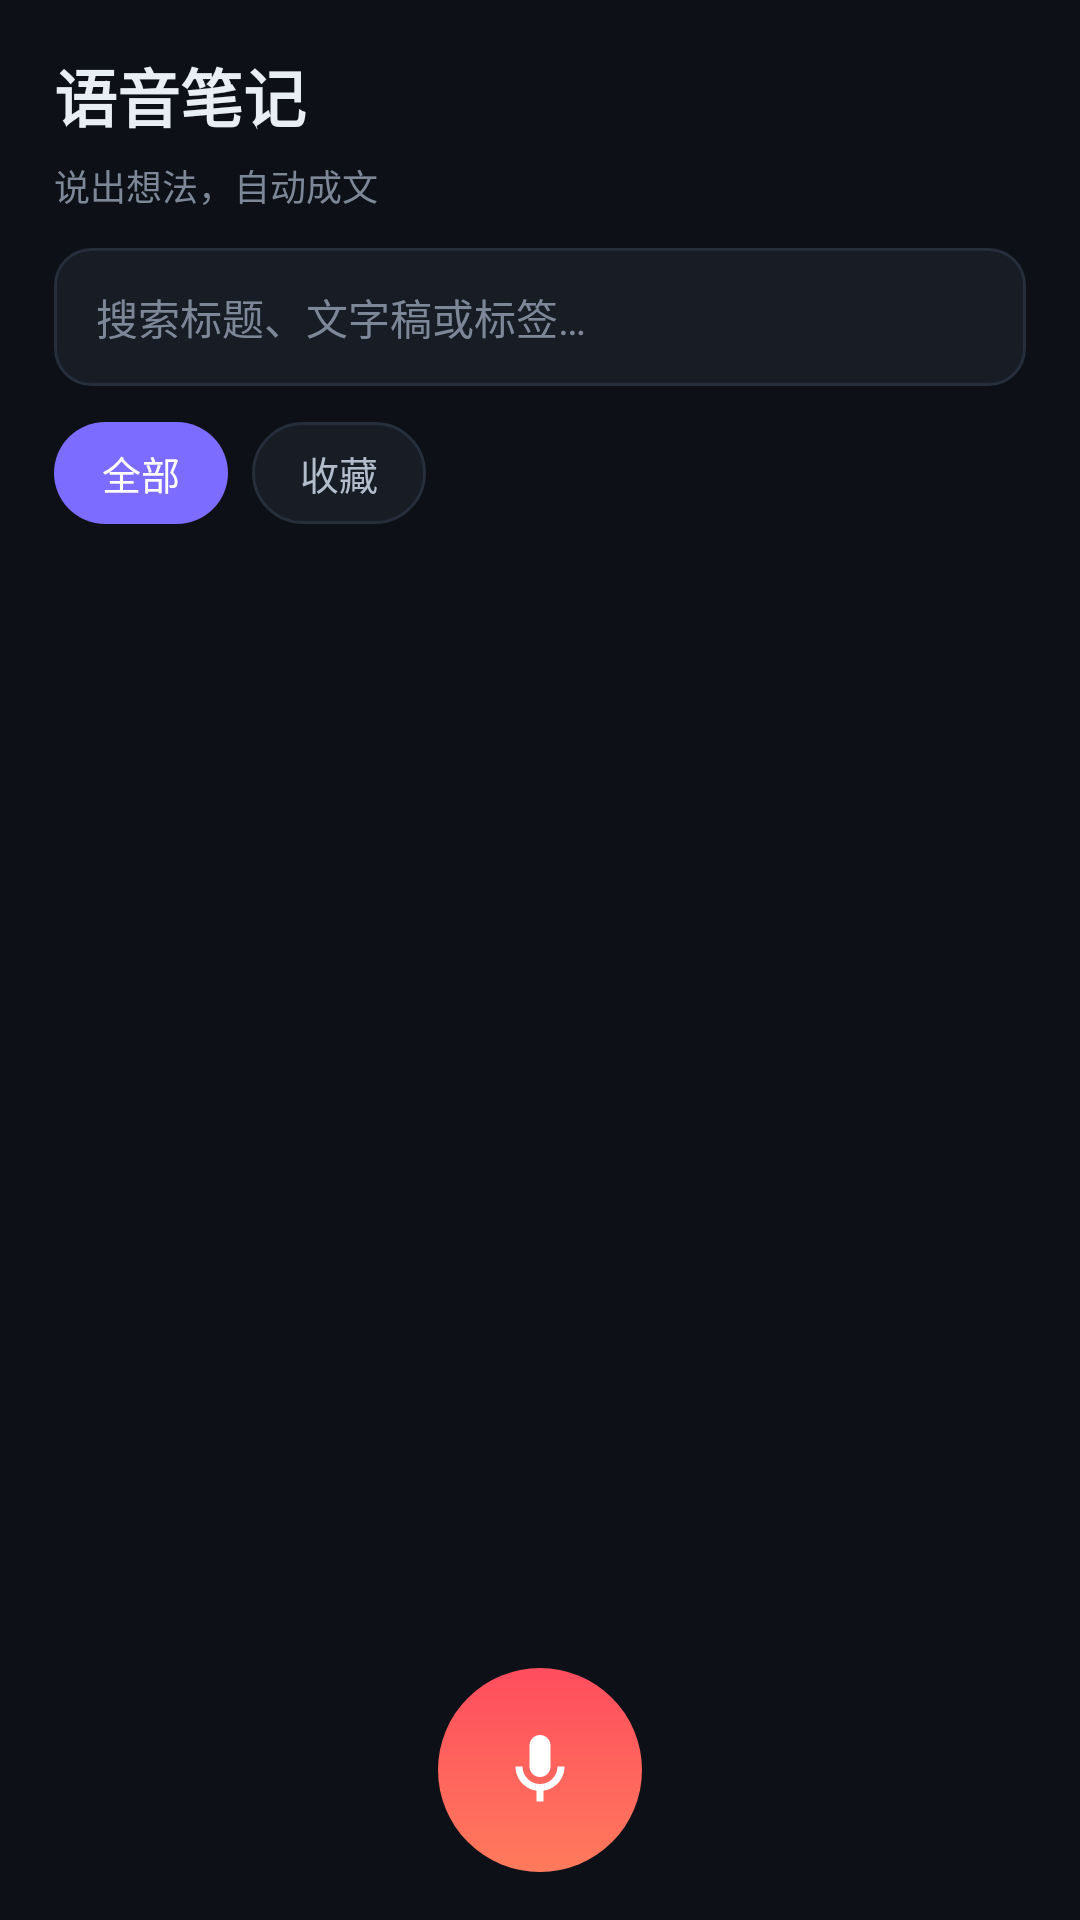

Screen size 1080w x 1920h. Icon name, then its box in pixels as (x1=x1, y1=y1, x2=x2, y2=y2):
mic: (x1=438, y1=1668, x2=642, y2=1872)
